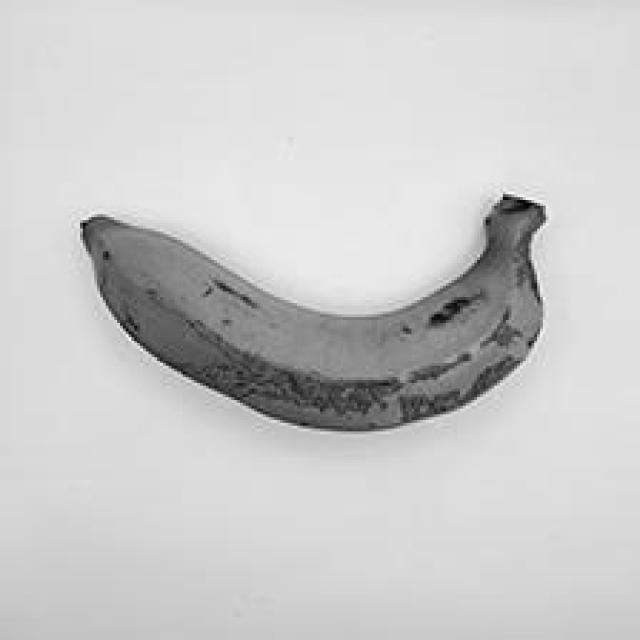Raw: (73, 162, 571, 462)
